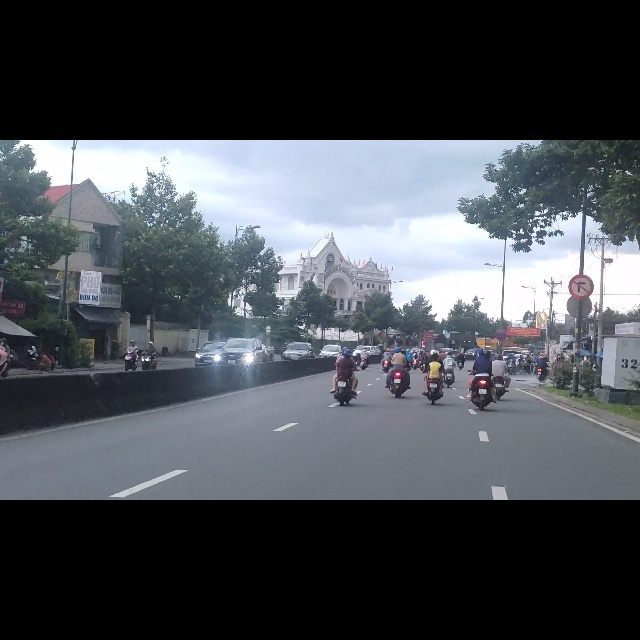bien_cam: (566, 236, 595, 281), (495, 334, 507, 357)
